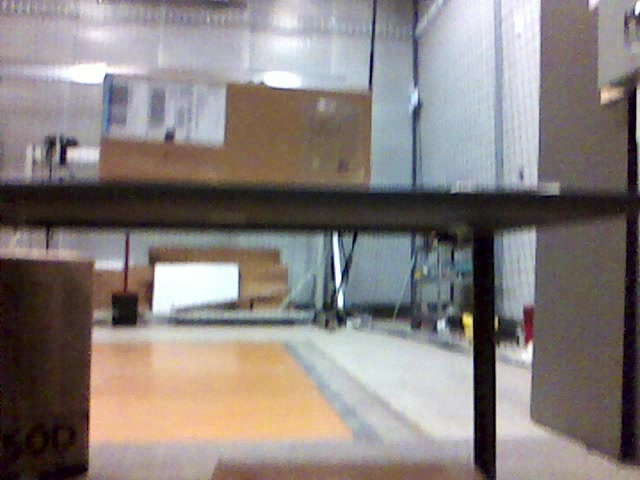box: (102, 74, 373, 188)
